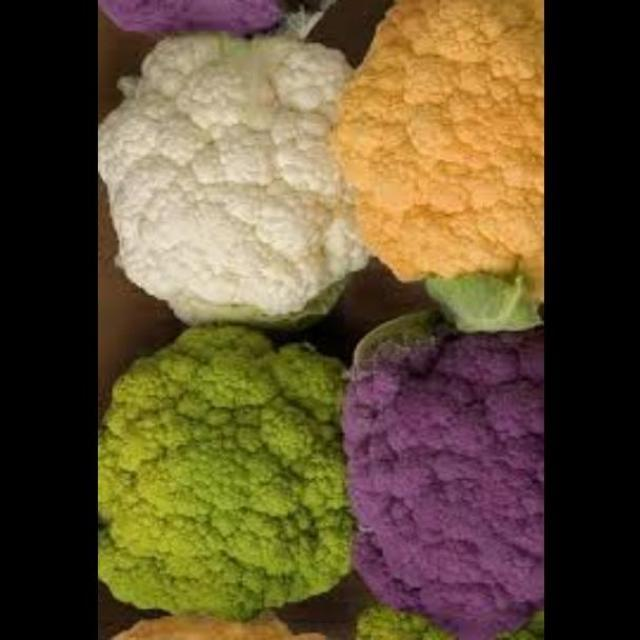cayliflower: (95, 28, 366, 336), (95, 328, 349, 634), (327, 1, 542, 317), (332, 318, 540, 640)
